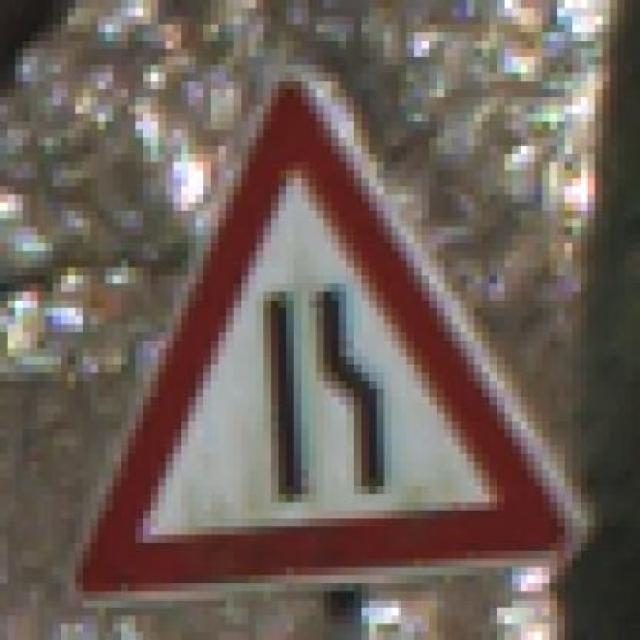-Road narrows on right: (54, 47, 597, 615)
